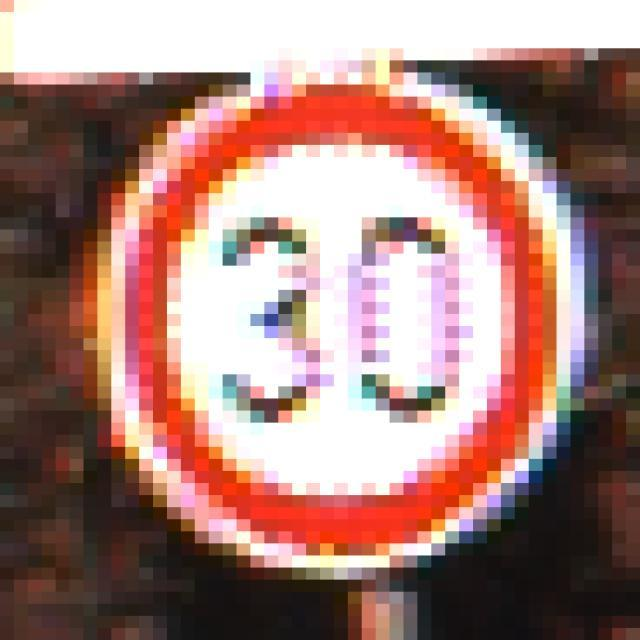Speed Limit -30-: (77, 54, 550, 562)
